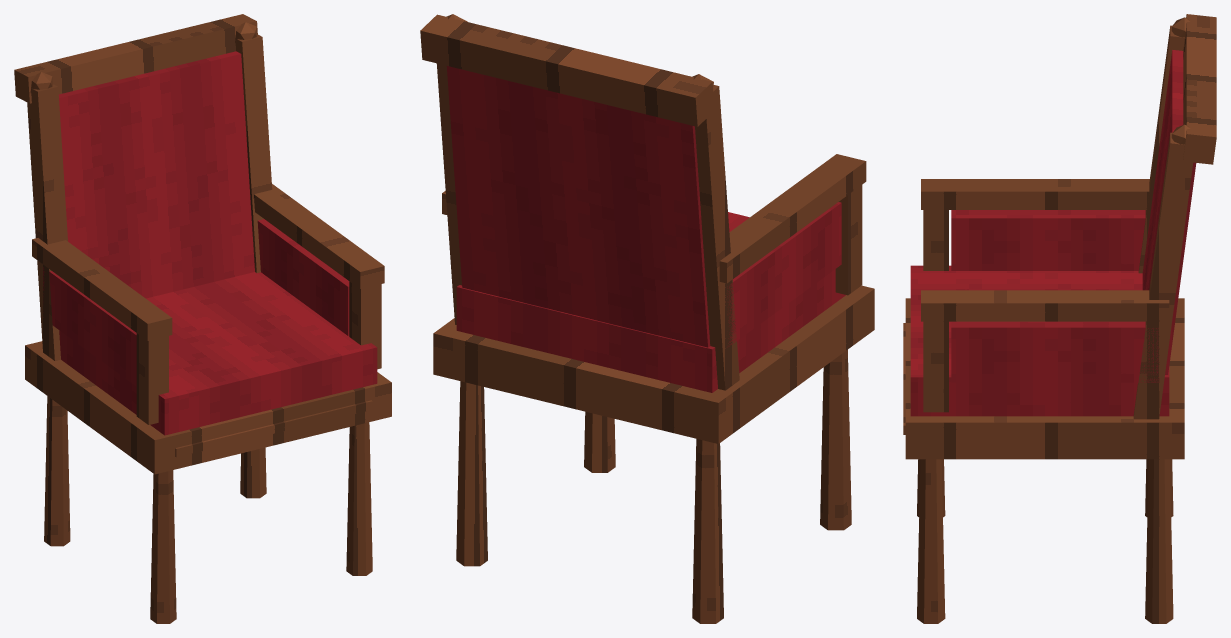
Rendered from poker_chair.glb.
3 renders of one model, left to right at view 1: azimuth 30°, elevation 25°; view 2: azimuth 150°, elevation 25°; view 3: azimuth 270°, elevation 25°, orthographic. The views are drawn at different scales.
Parts seen in each view (by area): view 1: PokerChair; view 2: PokerChair; view 3: PokerChair.
Part boxes in pixels (x1=…): PokerChair: x1=14, y1=14, x2=391, y2=623; PokerChair: x1=420, y1=14, x2=874, y2=623; PokerChair: x1=903, y1=14, x2=1216, y2=623.
Bounding box in the file's own units: 0.58 × 1.09 × 0.6184.
2 materials, 2 textured.
